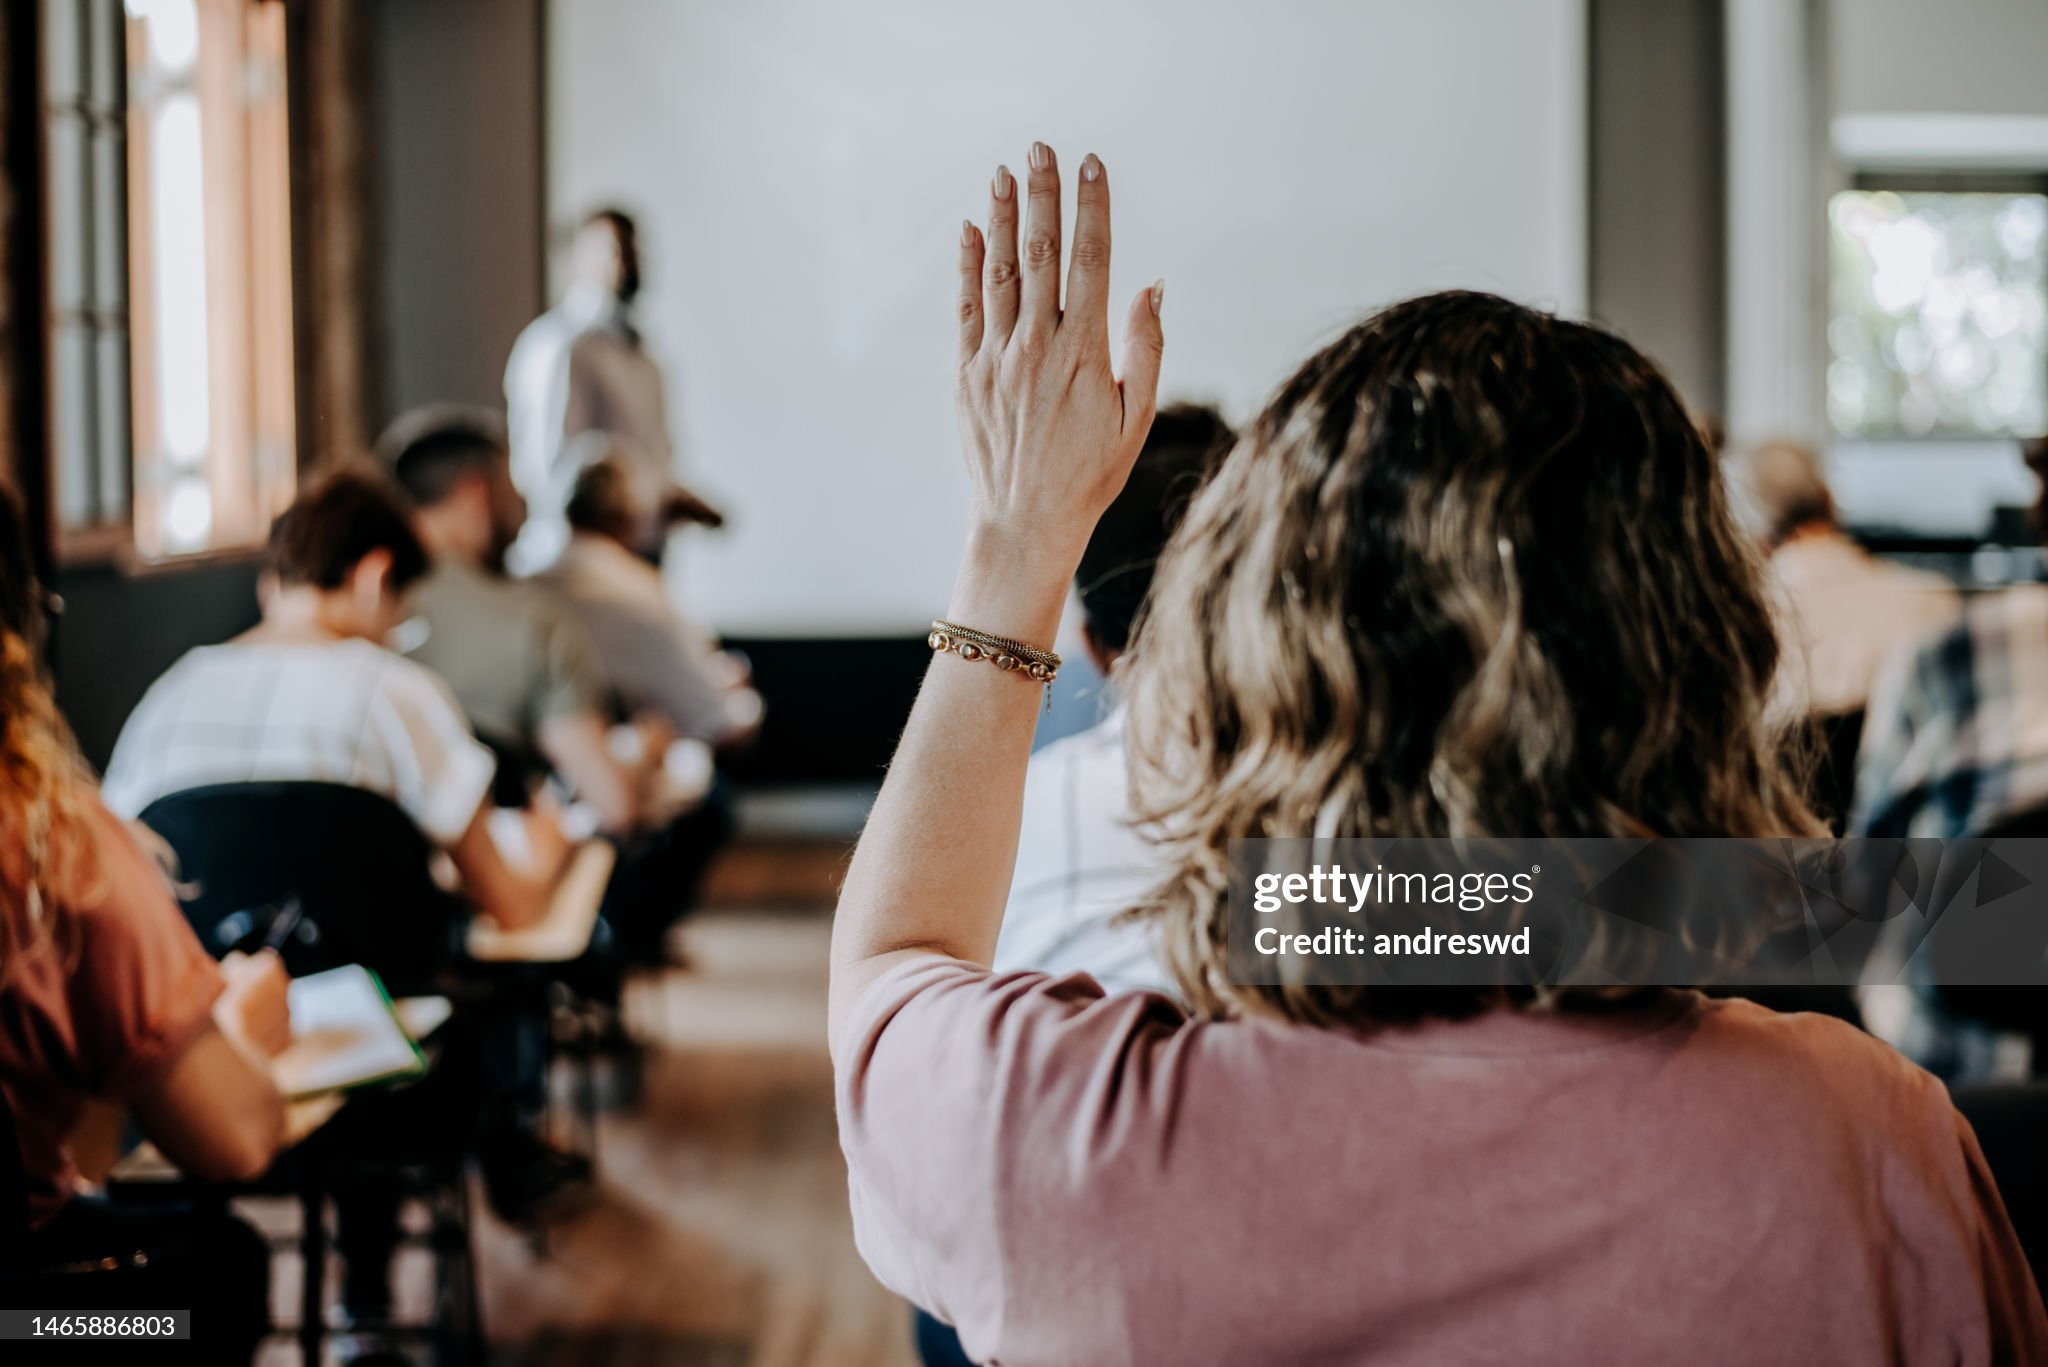entre-0-15-porcento: (9, 87, 2037, 1359)
